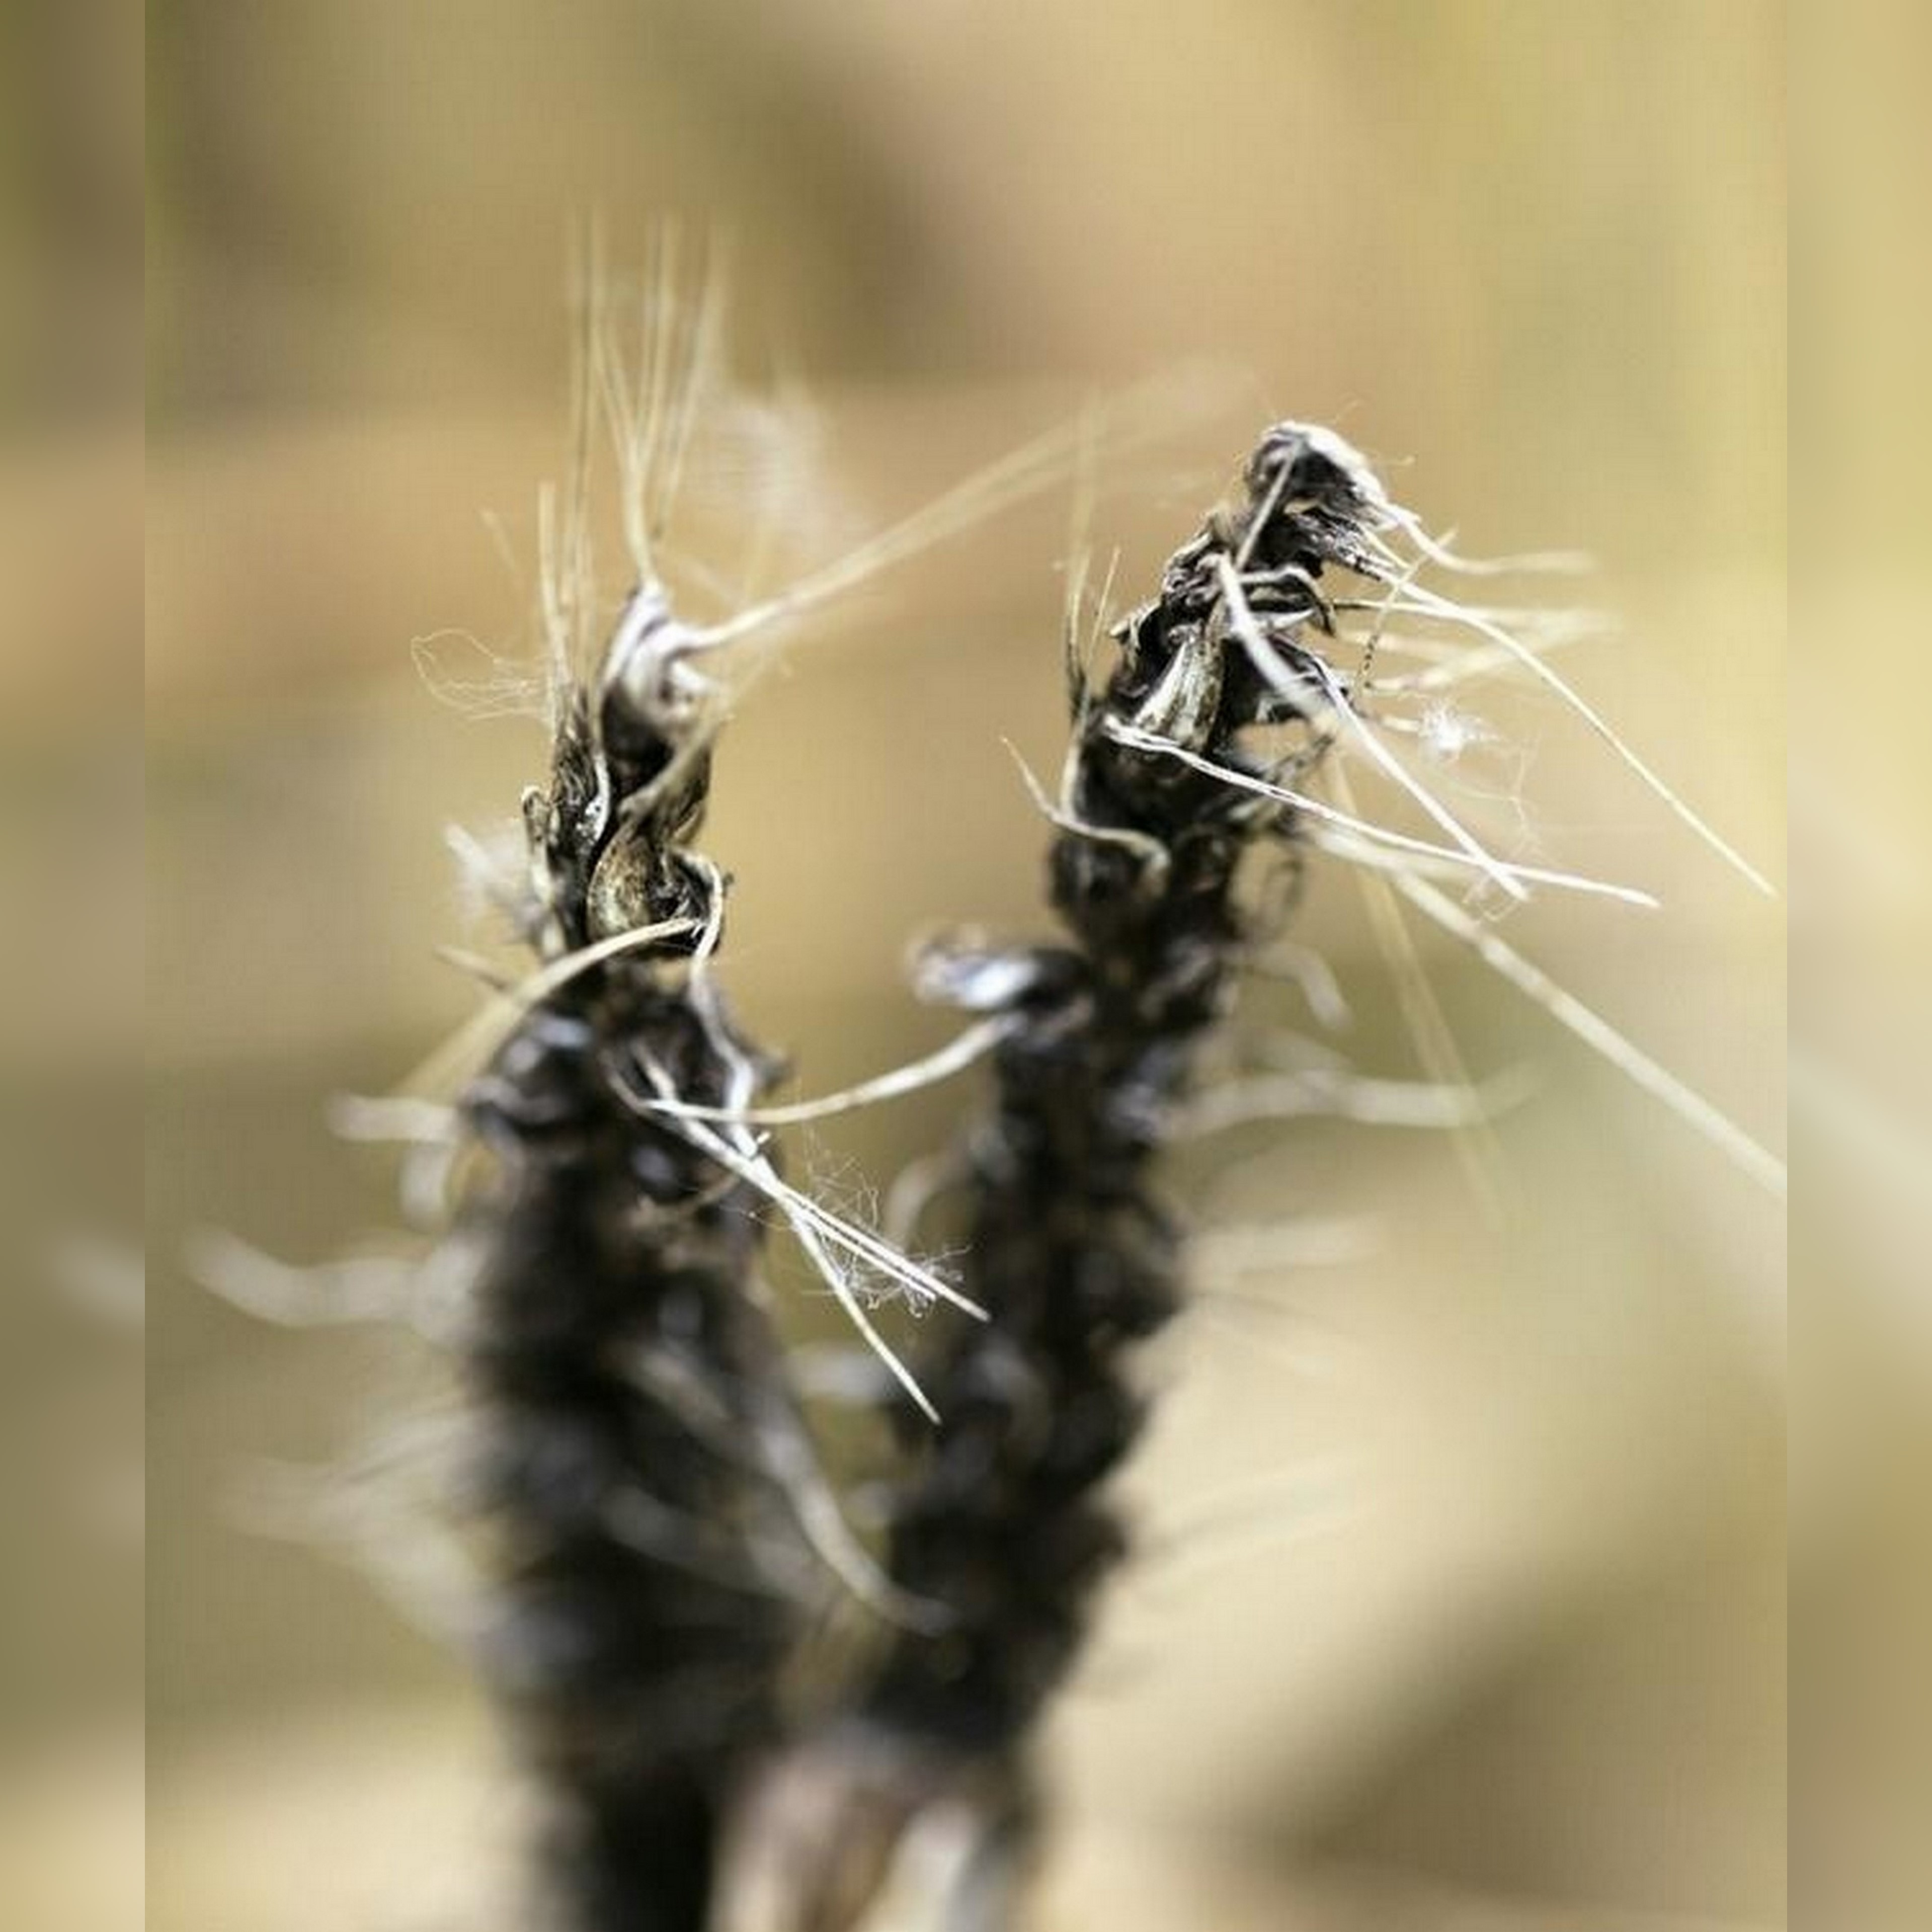Wheat Loose Smut: (403, 380, 1424, 1840)
